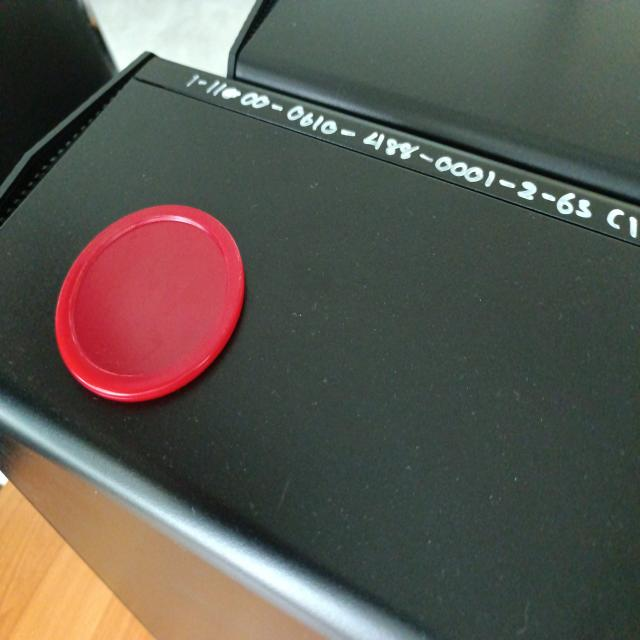chip: (53, 198, 249, 404)
